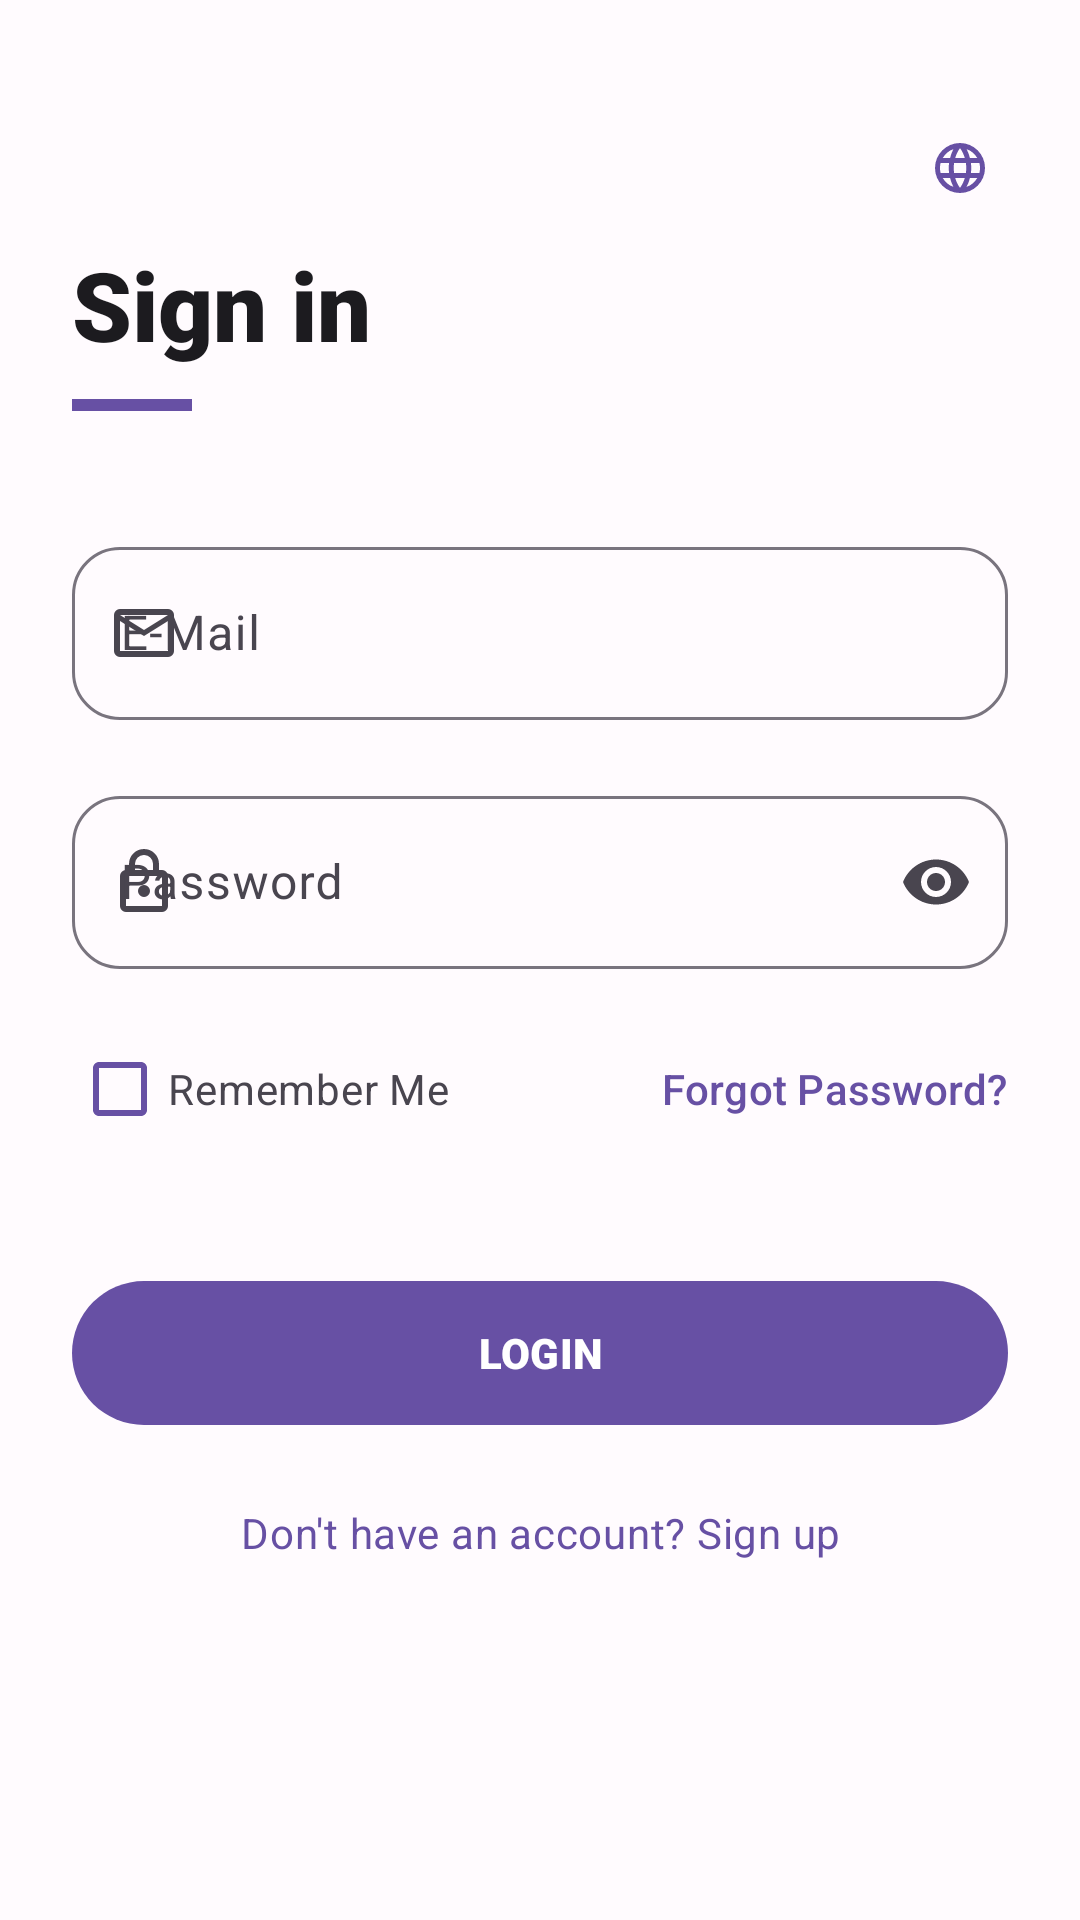

Named icons in this screenshot (1080w x 1920h) and their centers, point (x, y):
Select Language: point (960, 168)
